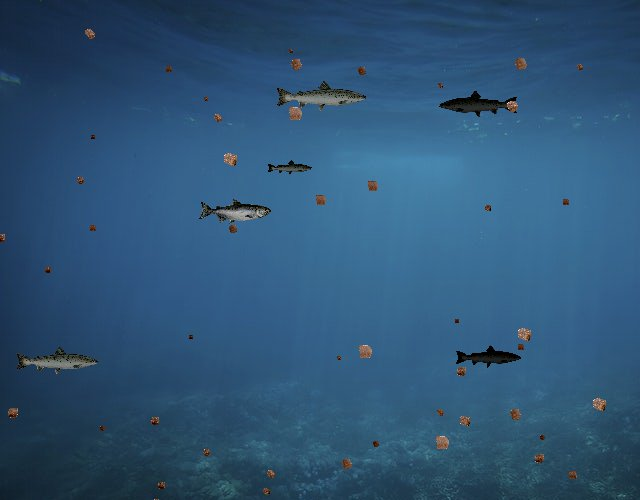Fish: (275, 80, 369, 113), (14, 345, 100, 376), (439, 89, 520, 119), (199, 198, 272, 224), (454, 344, 522, 369), (266, 160, 313, 177)
Pellet: (508, 51, 534, 77), (500, 94, 525, 119), (78, 23, 100, 45), (352, 62, 370, 80), (480, 201, 494, 215), (536, 431, 549, 444), (200, 94, 210, 104)
